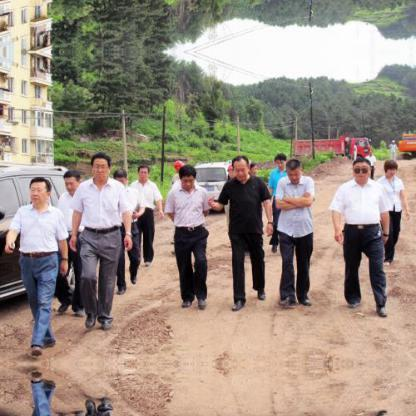helmet: (173, 160, 185, 173)
